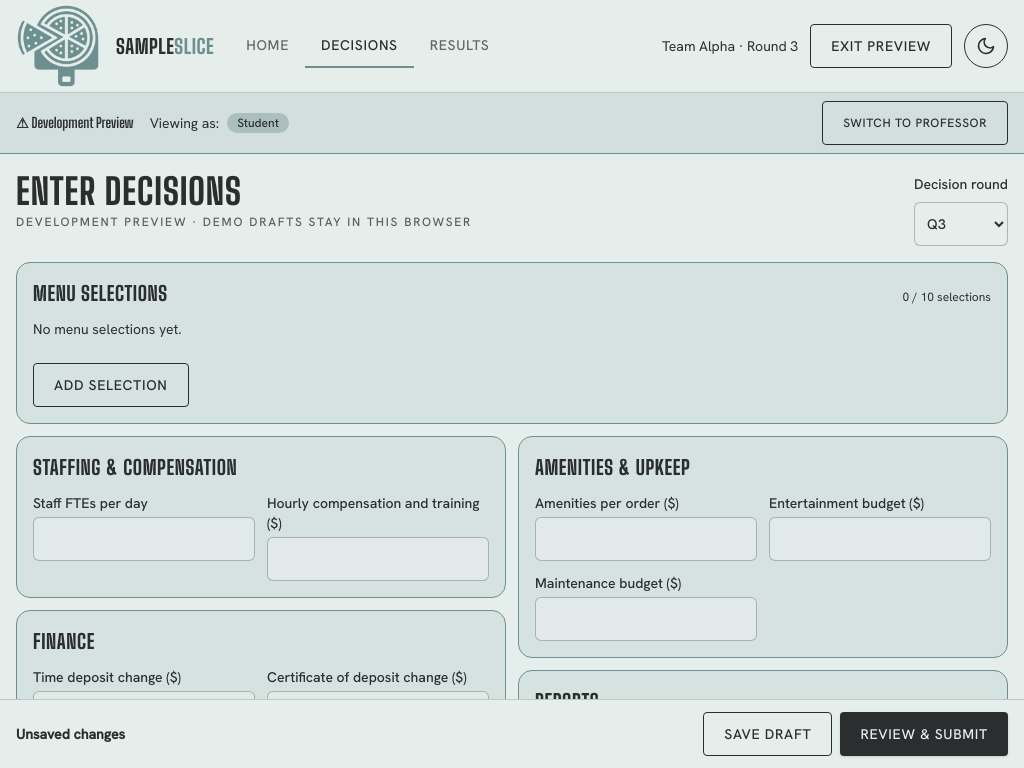
Test: reports a browser storage failure without discarding preview edits
Type "8" into the number field labelled "Staff FTEs per day" at {"x": 144, "y": 539}, box [33,517,255,561]
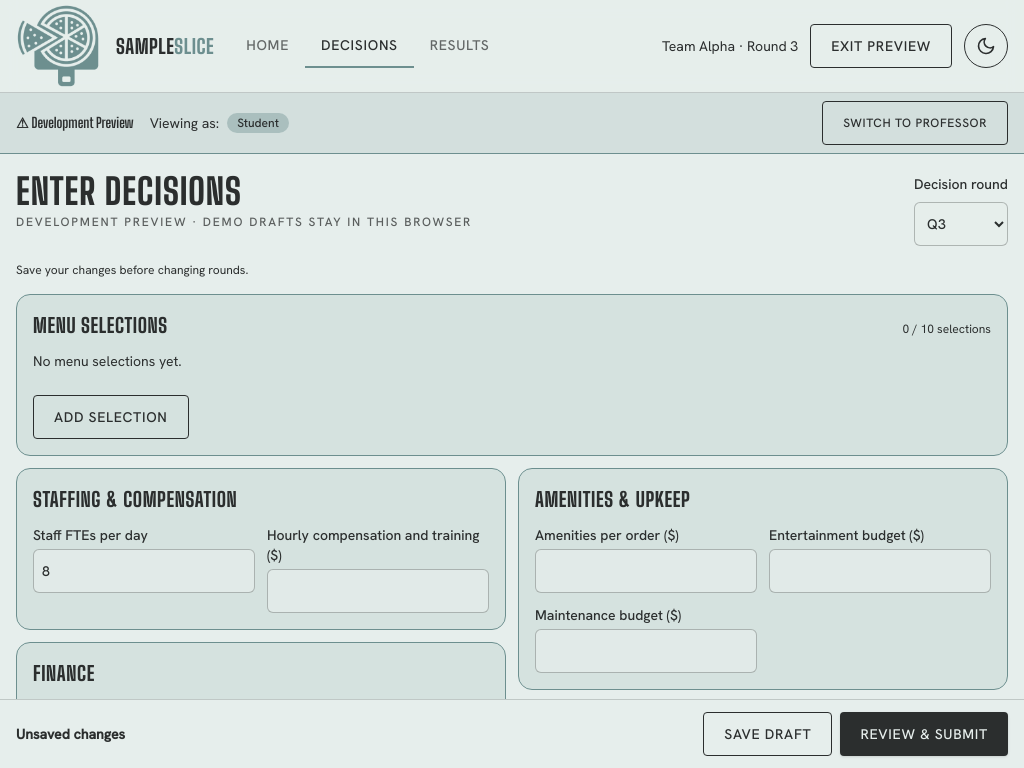
Click the button "Save Draft" at {"x": 768, "y": 734}, box [703,712,832,756]
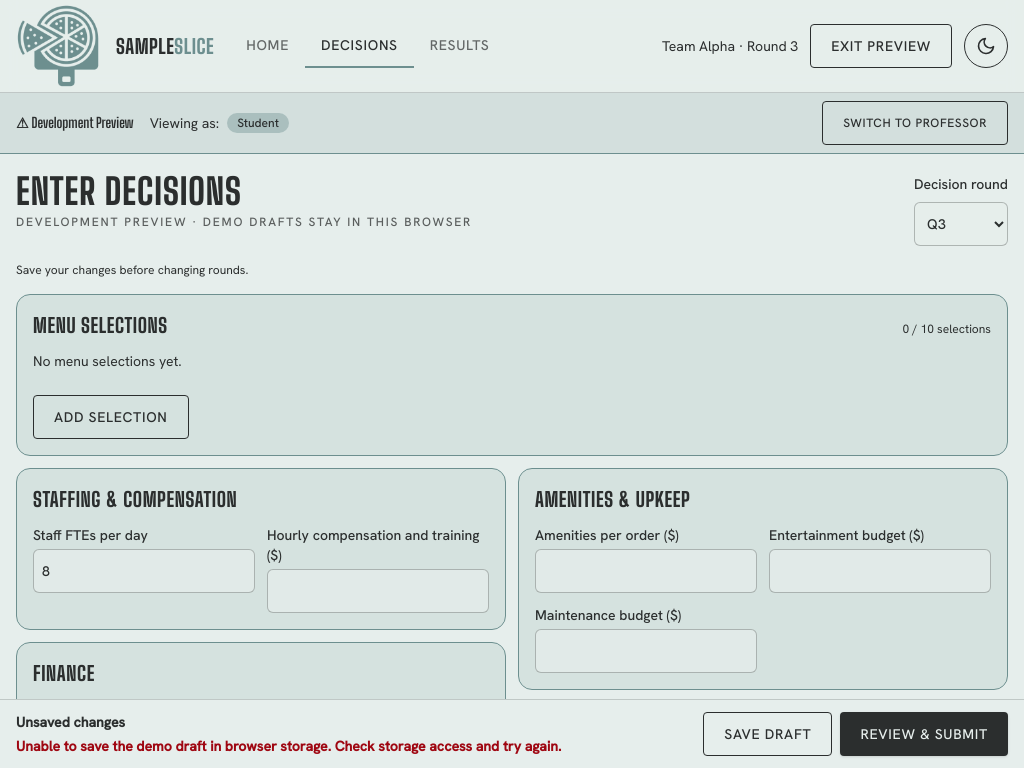
Expected: the 3rd message shows "Unable to save the demo draft in browser storage", [16,737,561,755]
